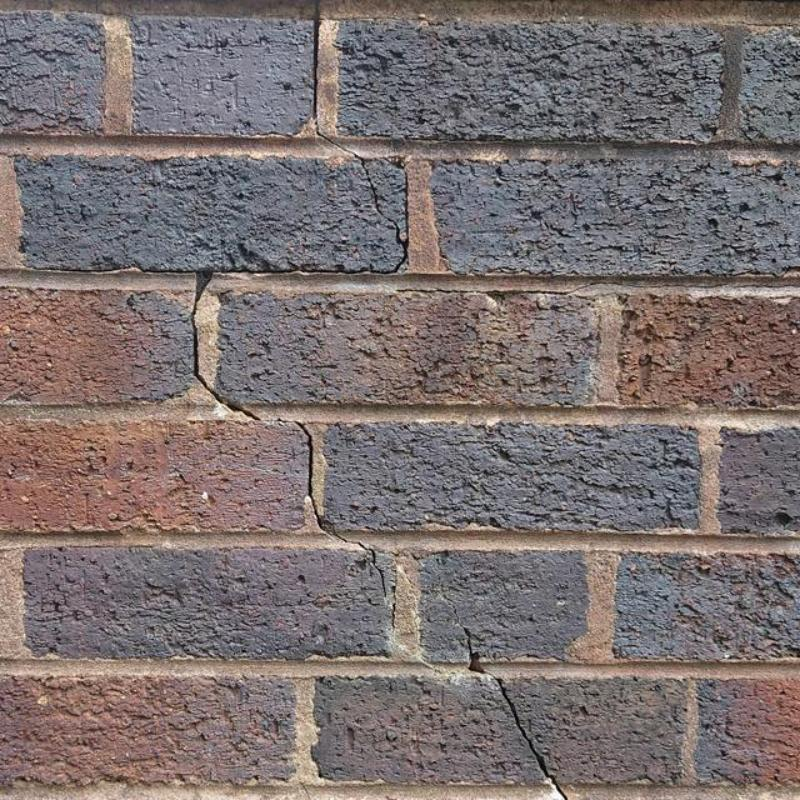pothole: (220, 2, 409, 274), (463, 628, 569, 800), (290, 422, 387, 598), (189, 272, 265, 422)
